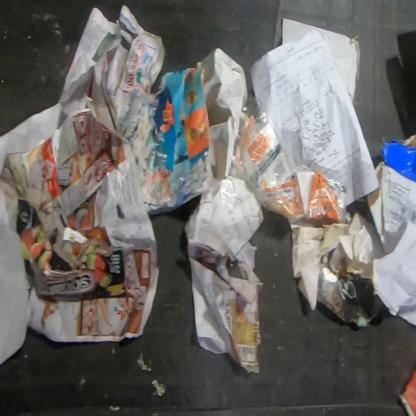cardboard: (14, 194, 128, 303), (280, 18, 361, 106), (365, 133, 415, 256)
soft_plastic: (218, 89, 353, 231)
